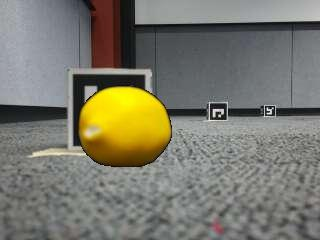lemon: (79, 89, 170, 168)
